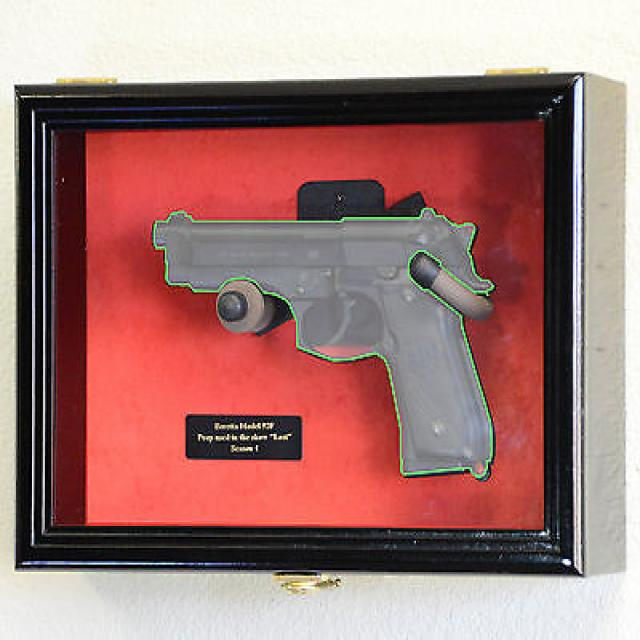HandGun: (155, 210, 494, 480)
